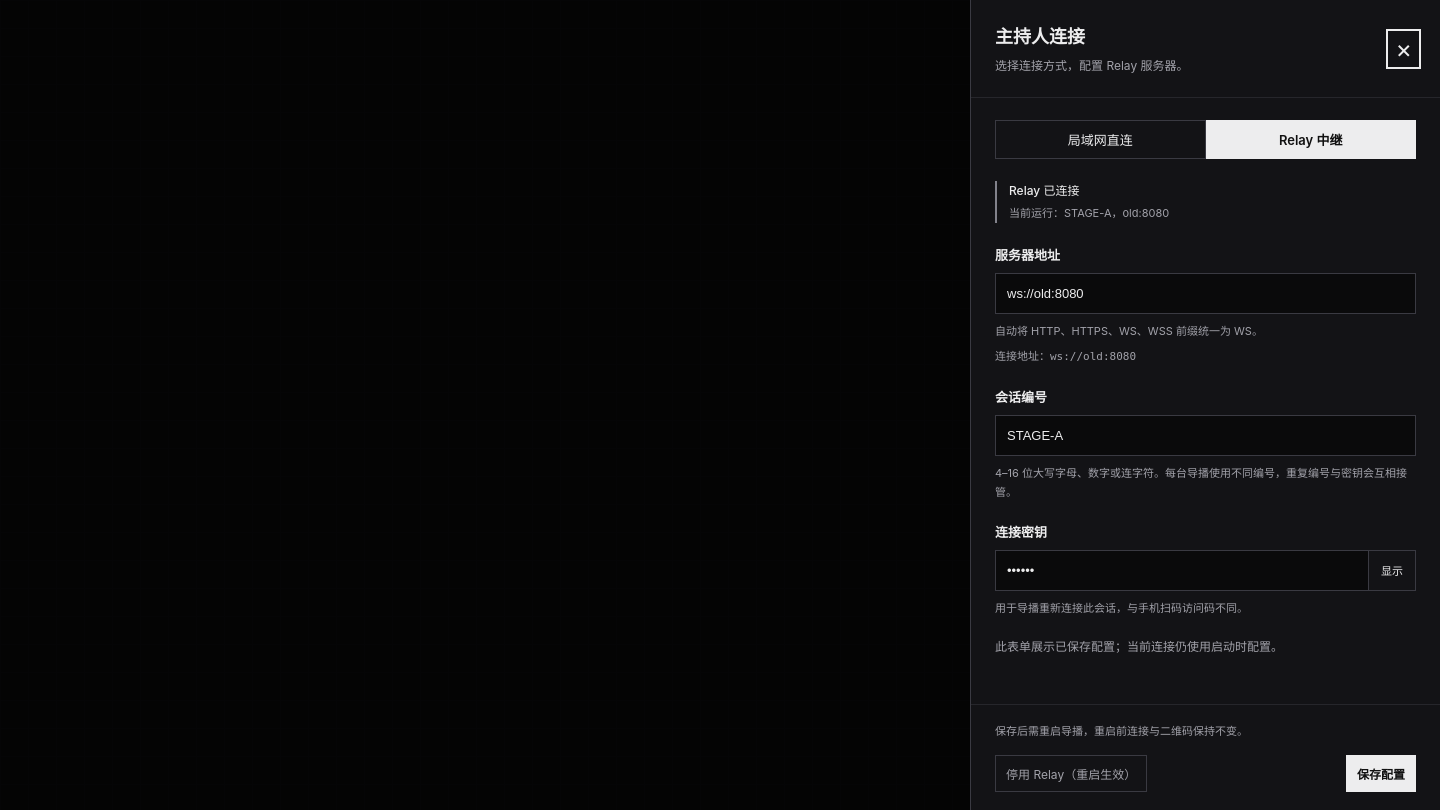
Test: saves the normalized draft without switching the running QR or connection
Replace the text in the field with id "relay-server" with "https://new:443/". click: (1206, 293)
box: [995,273,1416,314]
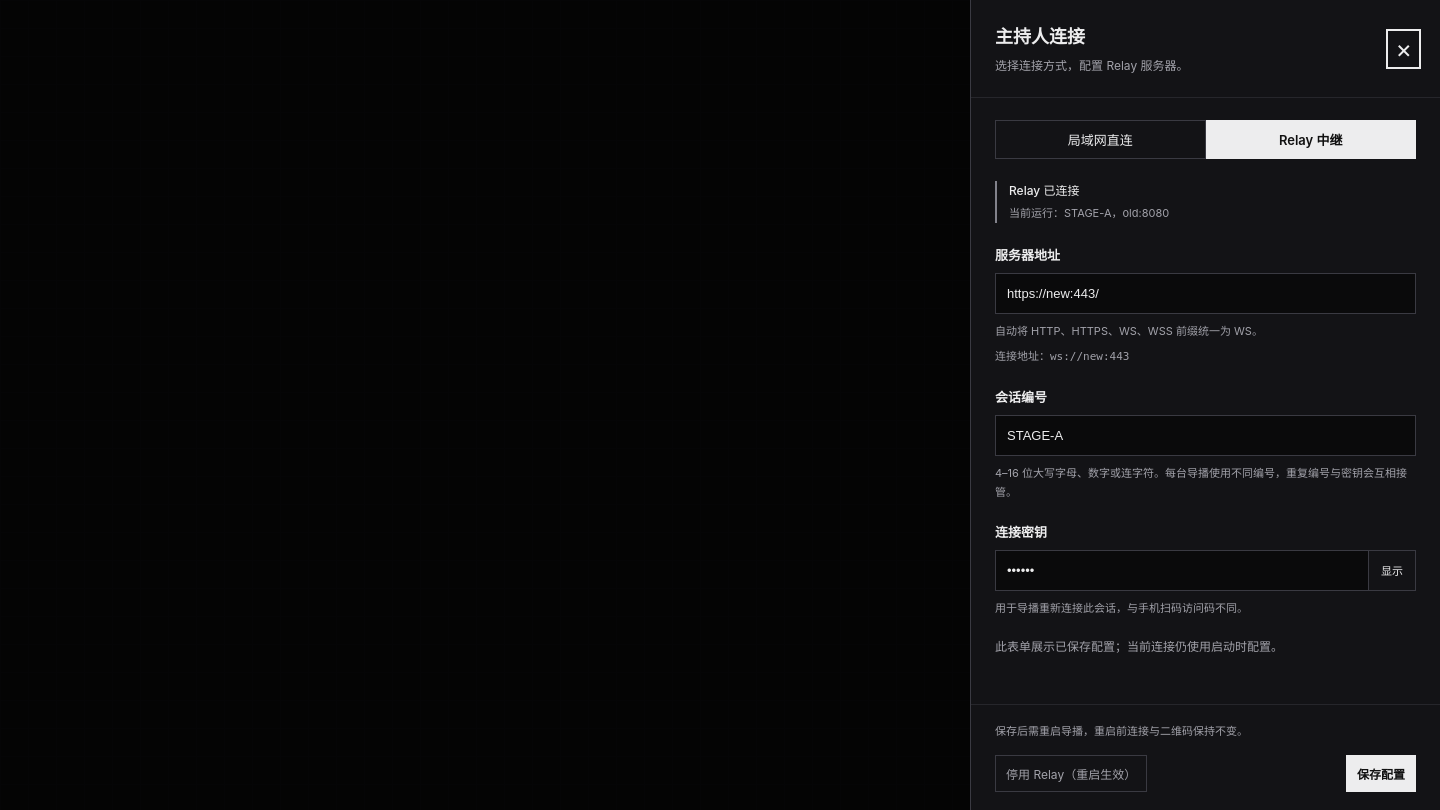
Click the button "保存配置". click: (1381, 774)
box: [1346,755,1416,792]
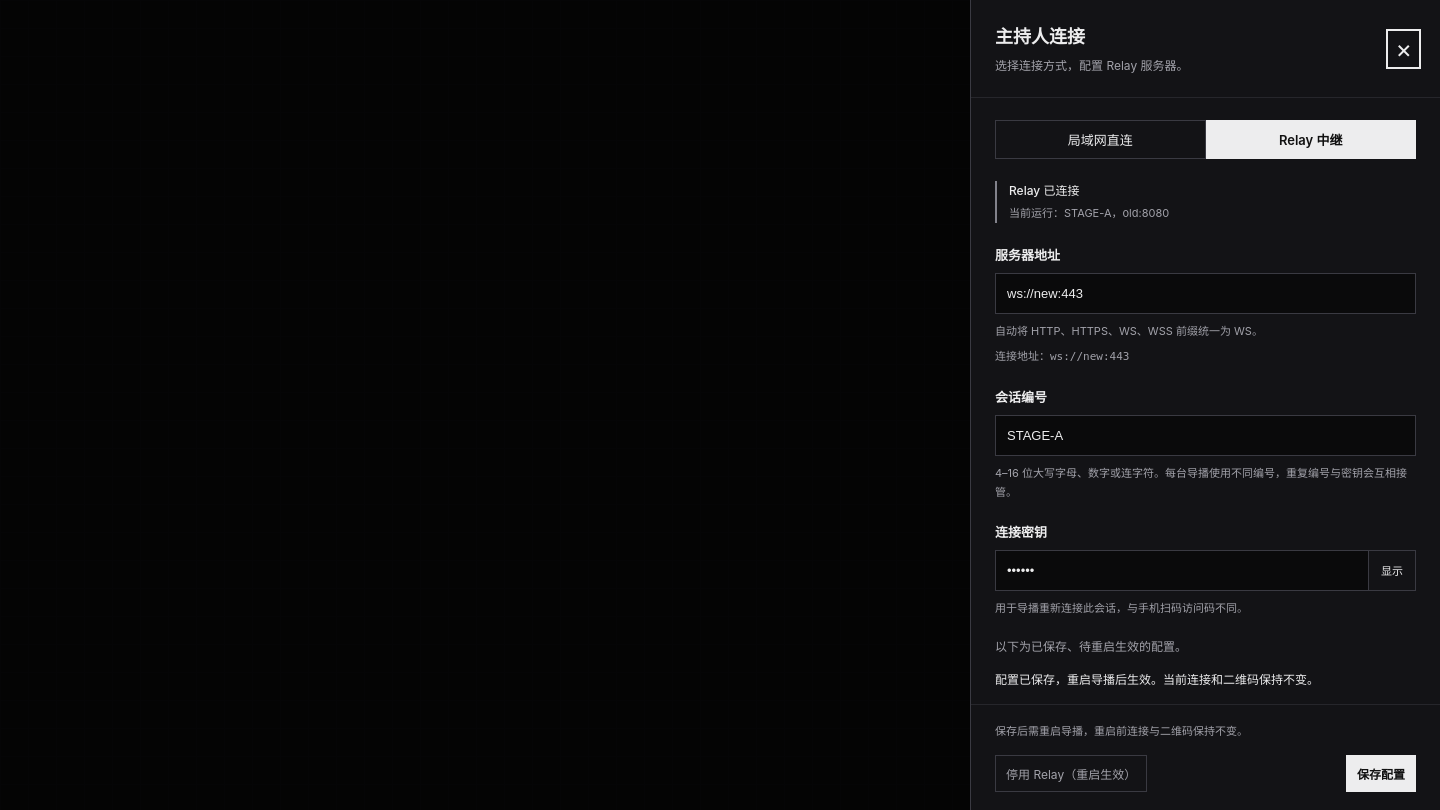
Expected: the message "配置已保存，重启导播后生效。当前连接和二维码保持不变。" is shown, [995,672,1319,687]
